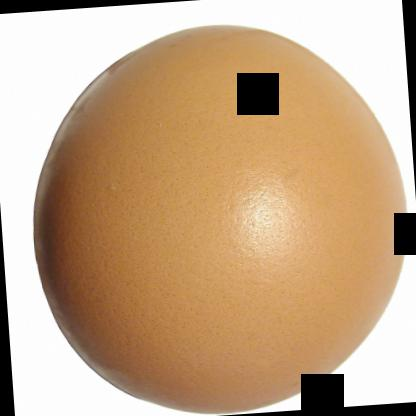egg: (20, 9, 415, 415)
